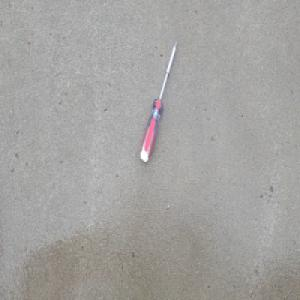Screwdriver: (139, 38, 179, 164)
